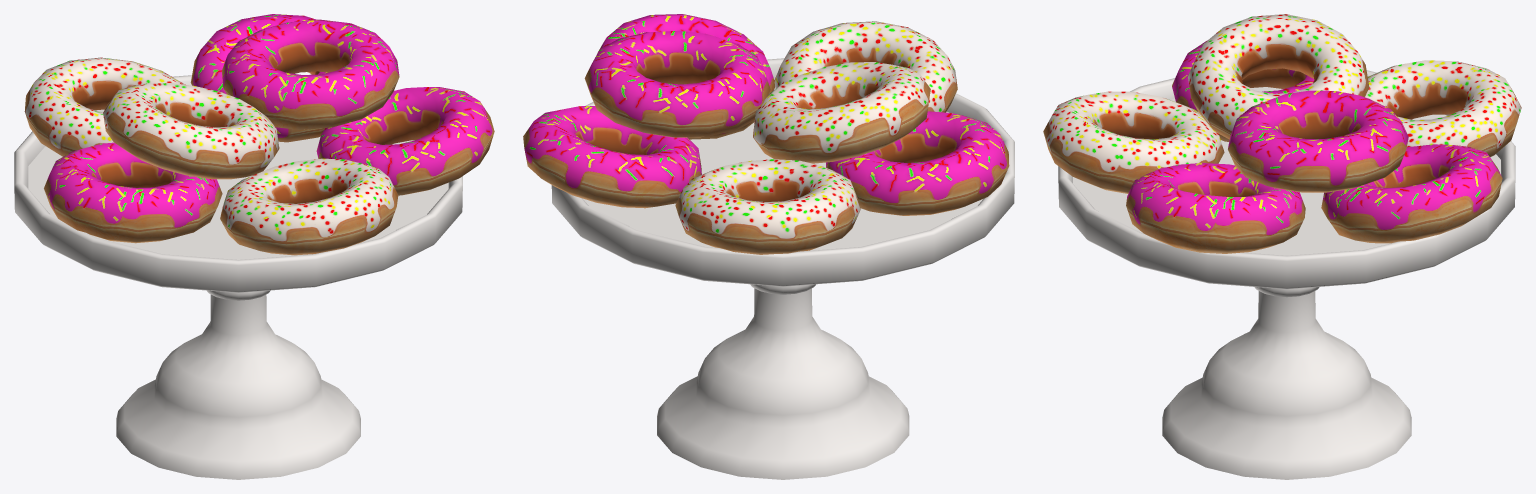
Rendered from BuffetDesserts02_4.FBX.
3 views of the same model, side by side, from view 1: azimuth 30°, elevation 25°; view 2: azimuth 150°, elevation 25°; view 3: azimuth 270°, elevation 25° (orthographic). The views are drawn at different scales.
Parts seen in each view (by area): view 1: BuffetDesserts02_4; view 2: BuffetDesserts02_4; view 3: BuffetDesserts02_4.
Part boxes in pixels (box(x1,y1,x2,y2)): BuffetDesserts02_4: box(14, 14, 494, 479); BuffetDesserts02_4: box(523, 14, 1014, 479); BuffetDesserts02_4: box(1043, 14, 1521, 479).
Size of what is drawn, in the model's own units: 0.4215 by 0.3496 by 0.4241.
